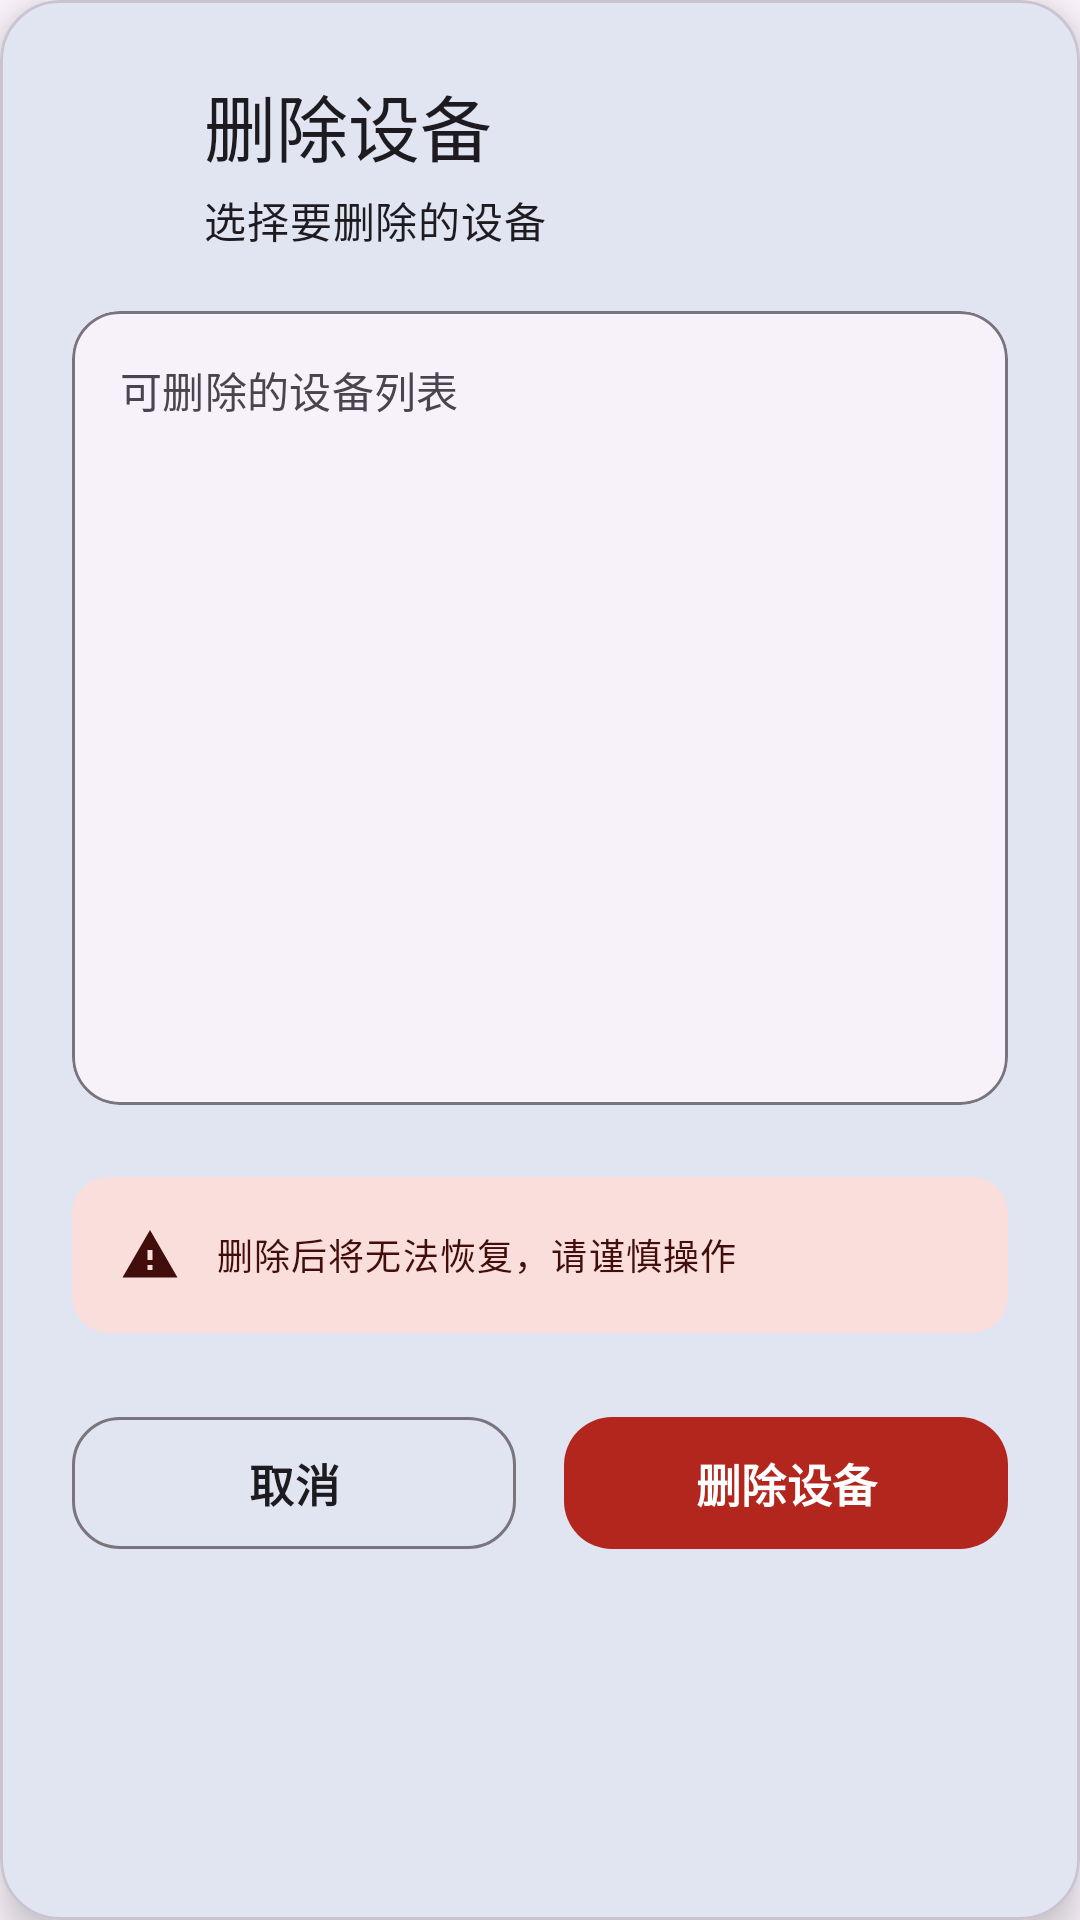

Locate icon controls on the screen. Image size 1080w x 1920h, boxes as (x1, y1, x2, y2).
warning: (122, 1230, 178, 1278)
